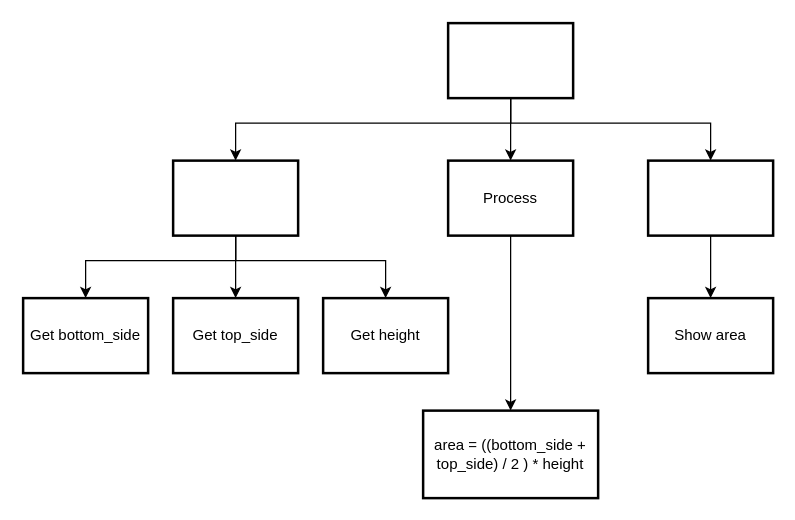
The diagram is 795 pixels wide and 520 high, and some of its shapes have lost their labels. Each missing label, with the centre of its shape:
"Input" goes at (x=235, y=197).
"Output" goes at (x=710, y=197).
"trapezoid_area" goes at (x=510, y=60).
